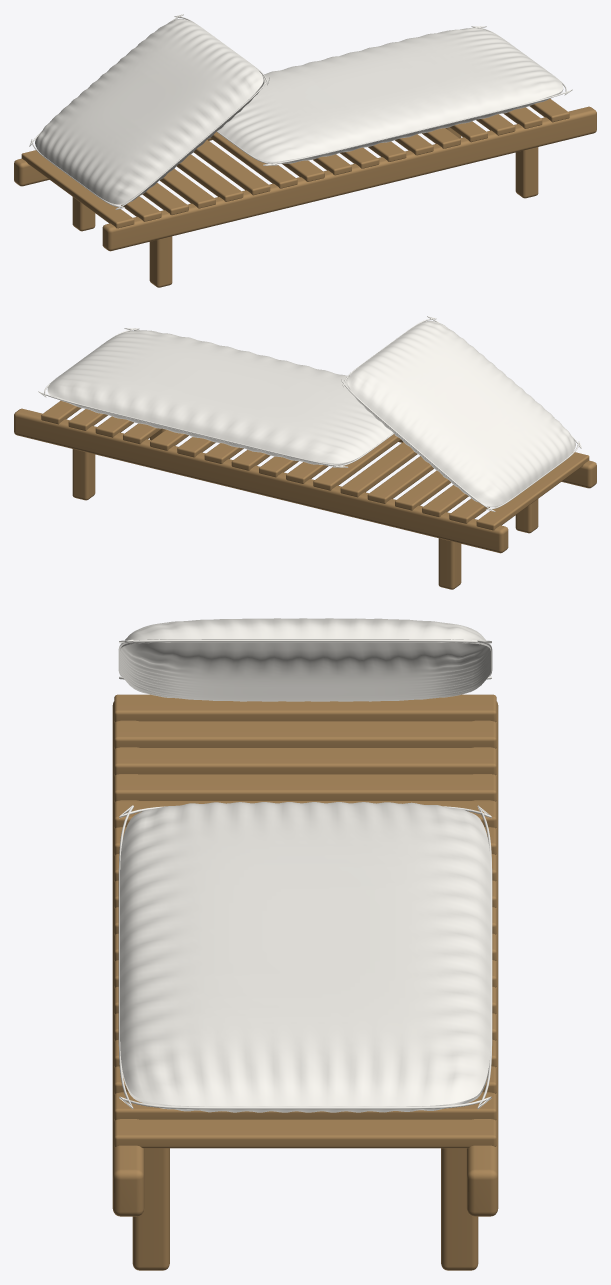
Rendered from lounger.glb.
The picture shows the model from 3 angles, top to bottom: view 1: azimuth 30°, elevation 25°; view 2: azimuth 150°, elevation 25°; view 3: azimuth 270°, elevation 25°; orthographic projection. The views are drawn at different scales.
Parts seen in each view (by area): view 1: matelas, dossier, longeron, latte, latte.005, latte.004, latte.006, pied, pied.002, latte.003, matelas_passepoil, latte.002 (+14 smaller); view 2: matelas, dossier, longeron.001, latte, latte.005, latte.004, latte.006, pied.001, pied.003, latte.003, matelas_passepoil, latte.002 (+14 smaller); view 3: matelas, dossier, latte.016, latte.001, latte.003, latte.002, latte, latte.015, pied.002, pied.003, longeron, longeron.001 (+3 smaller).
Part boxes in pixels (x1,y1,x2,y2): matelas: [218, 28, 563, 163]; dossier: [35, 18, 264, 205]; longeron: [102, 106, 596, 251]; latte: [21, 150, 134, 228]; latte.005: [193, 139, 270, 195]; latte.004: [176, 154, 243, 201]; latte.006: [210, 132, 297, 188]; pied: [149, 236, 172, 287]; pied.002: [515, 147, 538, 198]; latte.003: [159, 168, 215, 208]; matelas_passepoil: [216, 26, 572, 165]; latte.002: [142, 183, 188, 214]; matelas: [47, 330, 392, 466]; dossier: [346, 320, 575, 507]; longeron.001: [14, 408, 508, 553]; latte: [476, 452, 589, 530]; latte.005: [340, 442, 417, 497]; latte.004: [367, 456, 433, 503]; latte.006: [313, 434, 400, 490]; pied.001: [438, 538, 461, 589]; pied.003: [72, 449, 95, 500]; latte.003: [395, 470, 450, 510]; matelas_passepoil: [38, 328, 393, 467]; latte.002: [422, 485, 468, 516]; matelas: [120, 802, 490, 1112]; dossier: [120, 618, 490, 701]; latte.016: [114, 1119, 496, 1148]; latte.001: [114, 721, 496, 748]; latte.003: [114, 774, 496, 801]; latte.002: [114, 748, 496, 774]; latte: [114, 694, 496, 721]; latte.015: [114, 1093, 496, 1120]; pied.002: [132, 1148, 169, 1270]; pied.003: [441, 1148, 478, 1270]; longeron: [112, 701, 144, 1216]; longeron.001: [466, 701, 498, 1216].
Bounding box in the file's own units: 1.98 × 0.726 × 0.6751.
